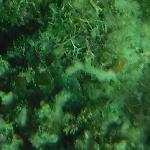dead: (4, 1, 145, 147)
